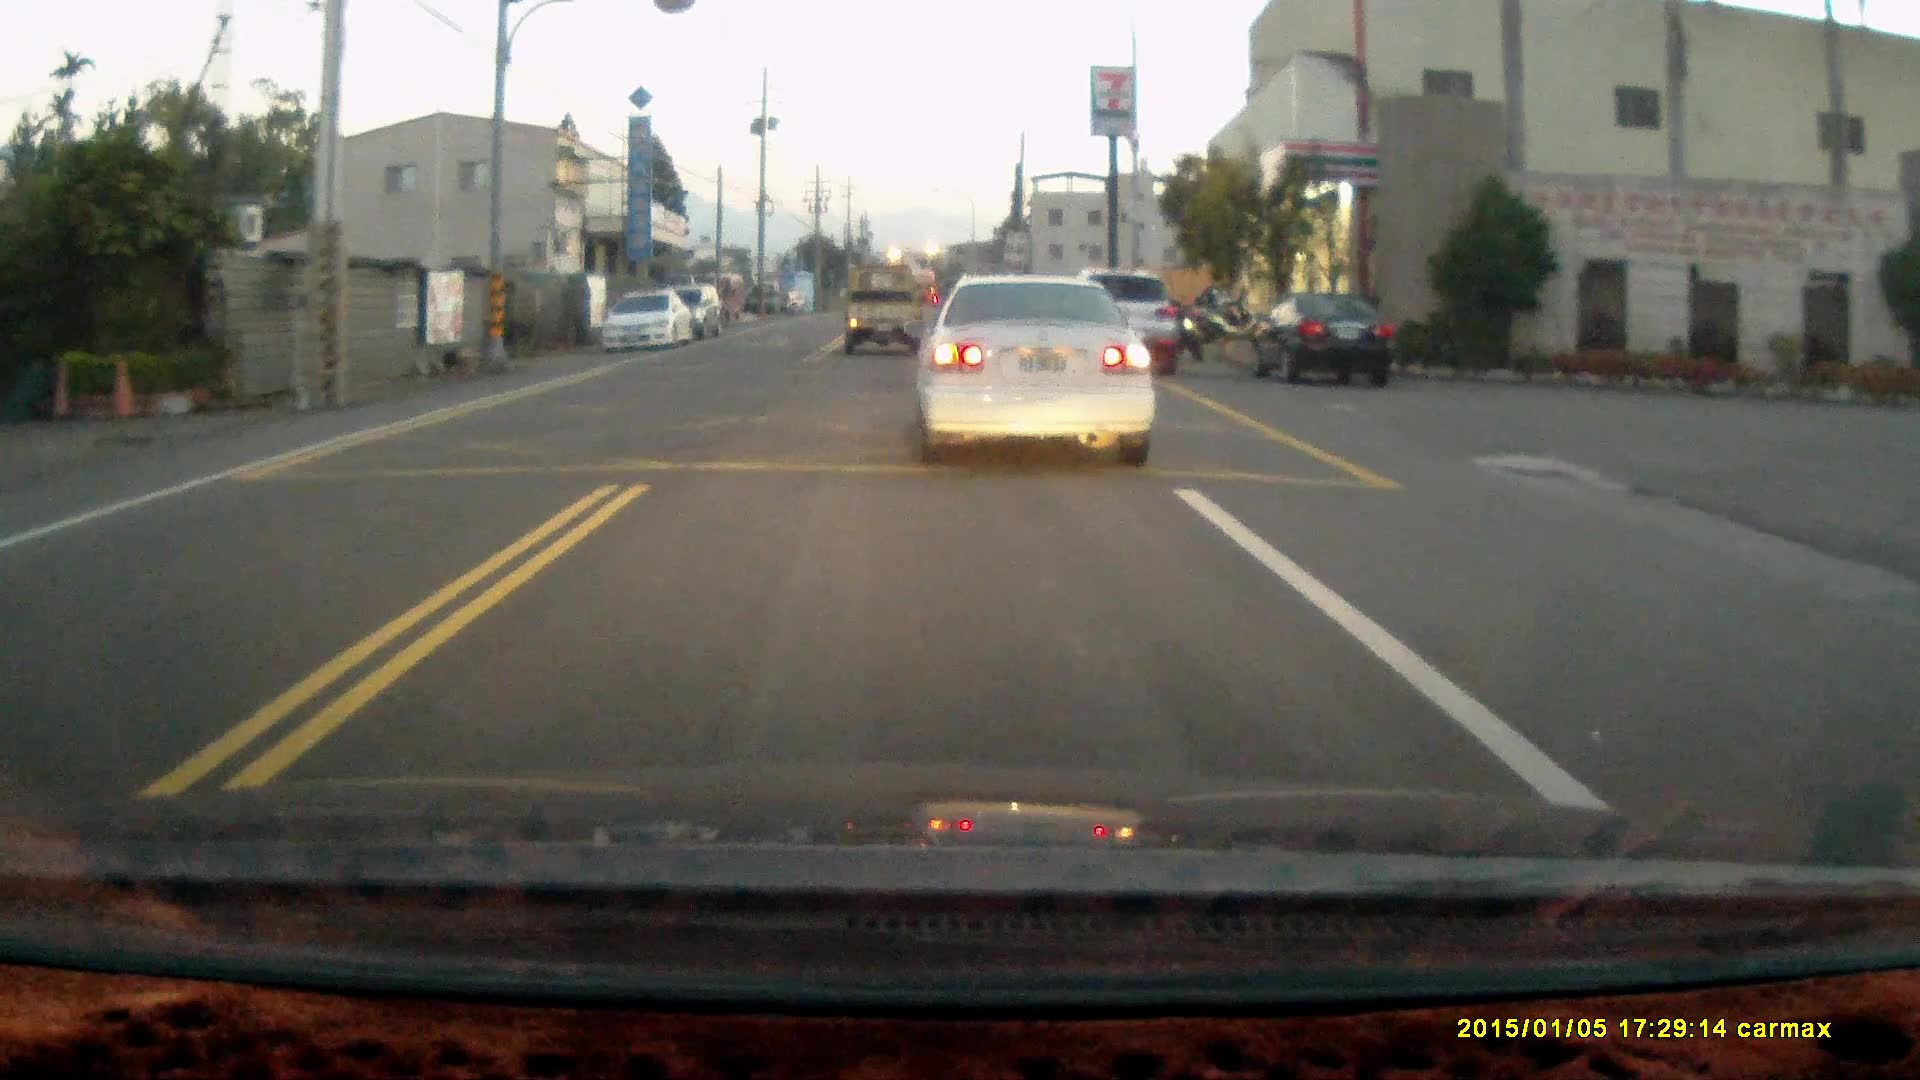vehicle: (915, 272, 1162, 467), (1245, 290, 1399, 388), (1062, 266, 1184, 375), (841, 265, 931, 356), (593, 287, 698, 353)
